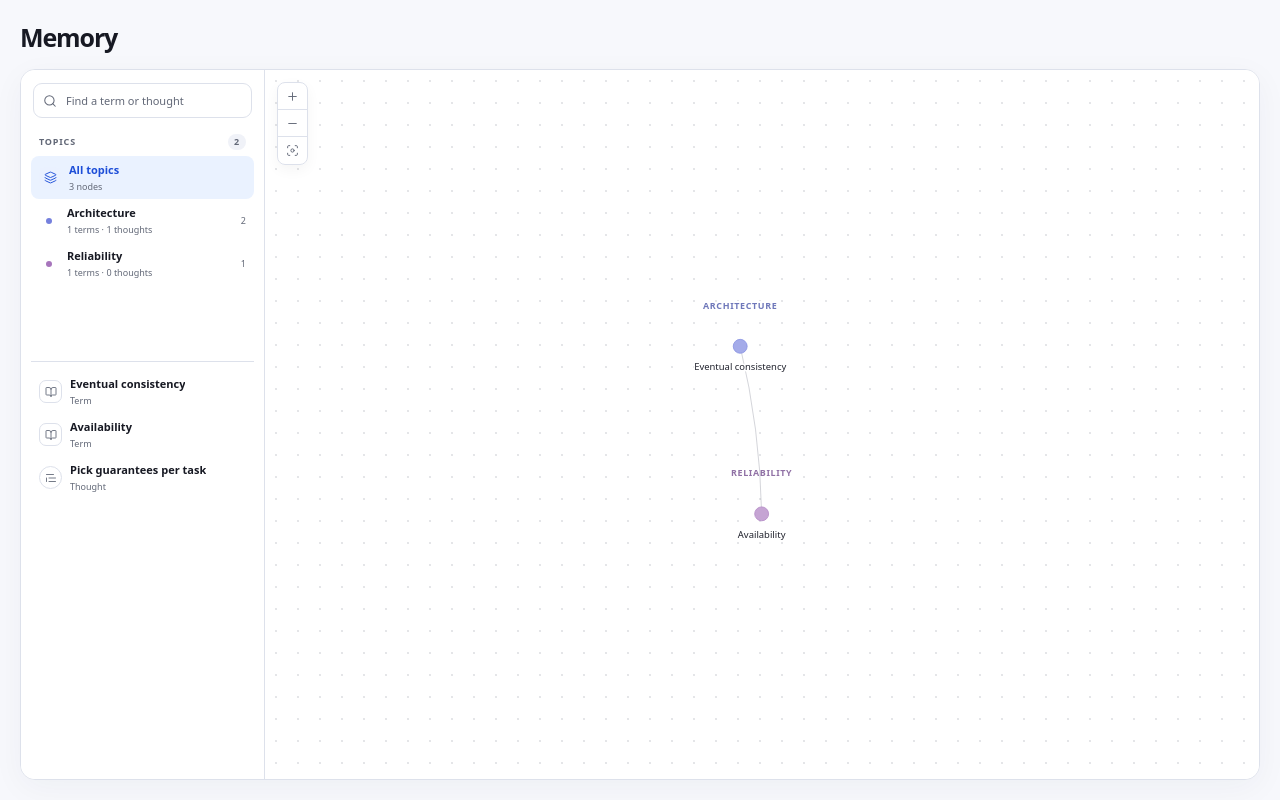
Test case: knowledge graph › keeps thoughts in the list and renders only terms as graph nodes
Expected: the button "Term: Eventual consistency" is shown, x1=694 y1=360 x2=786 y2=373
Expected: the heading "Memory" is shown, x1=20 y1=22 x2=117 y2=53
Click the button "Pick guarantees per task Thought" at (142, 478), box x1=31 y1=456 x2=254 y2=499
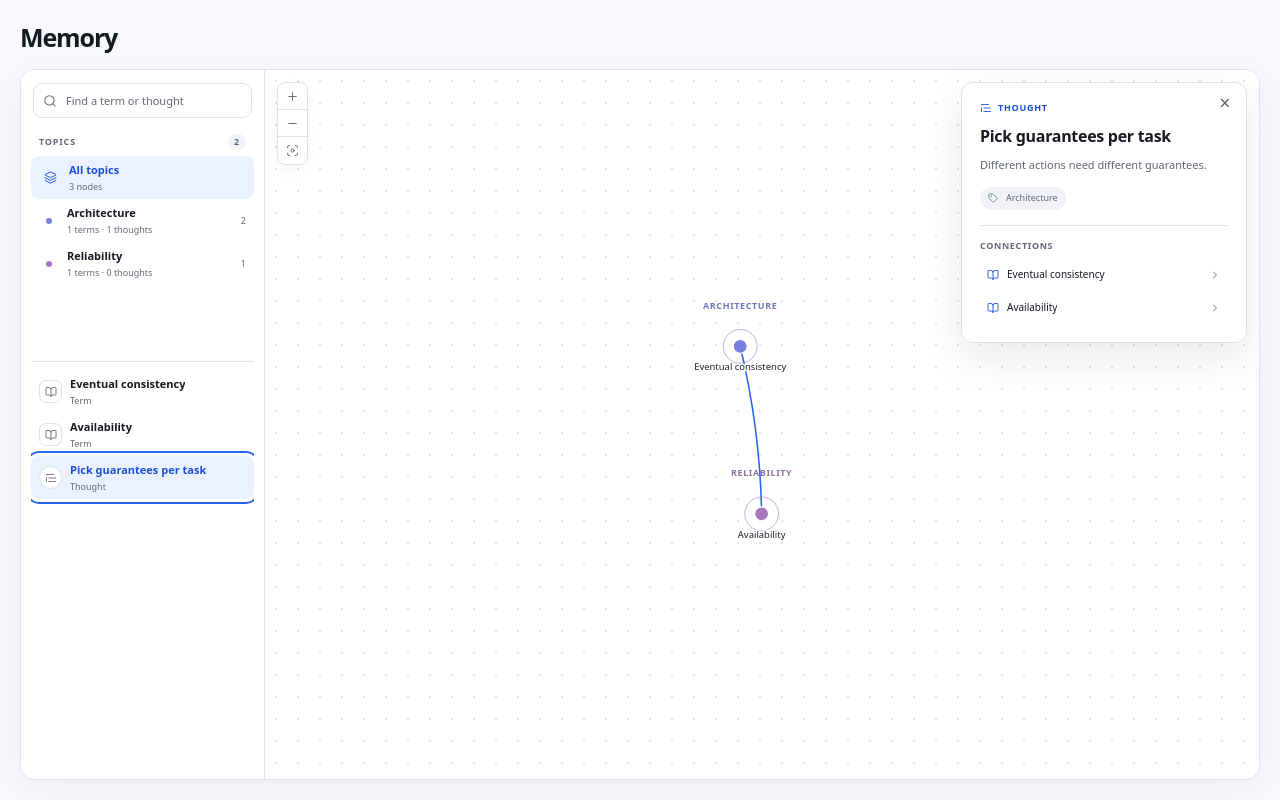
Result: the heading "Pick guarantees per task" is shown at x1=980 y1=124 x2=1171 y2=146
Result: the text "Different actions need different guarantees." is shown at x1=980 y1=156 x2=1228 y2=174
